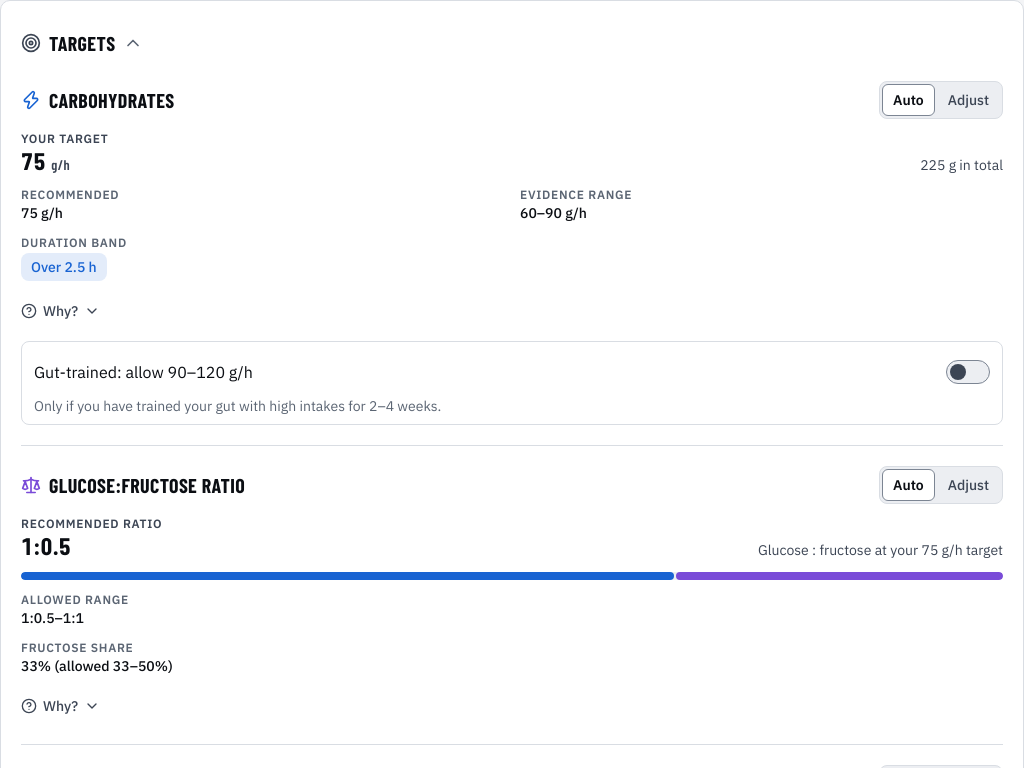
Test: TargetsSection: carbohydrate target › raises the target with the gut-trained opt-in and warns about gut training
Click the switch labelled "Gut-trained: allow 90–120 g/h" at (143, 372), box [34,350,990,394]
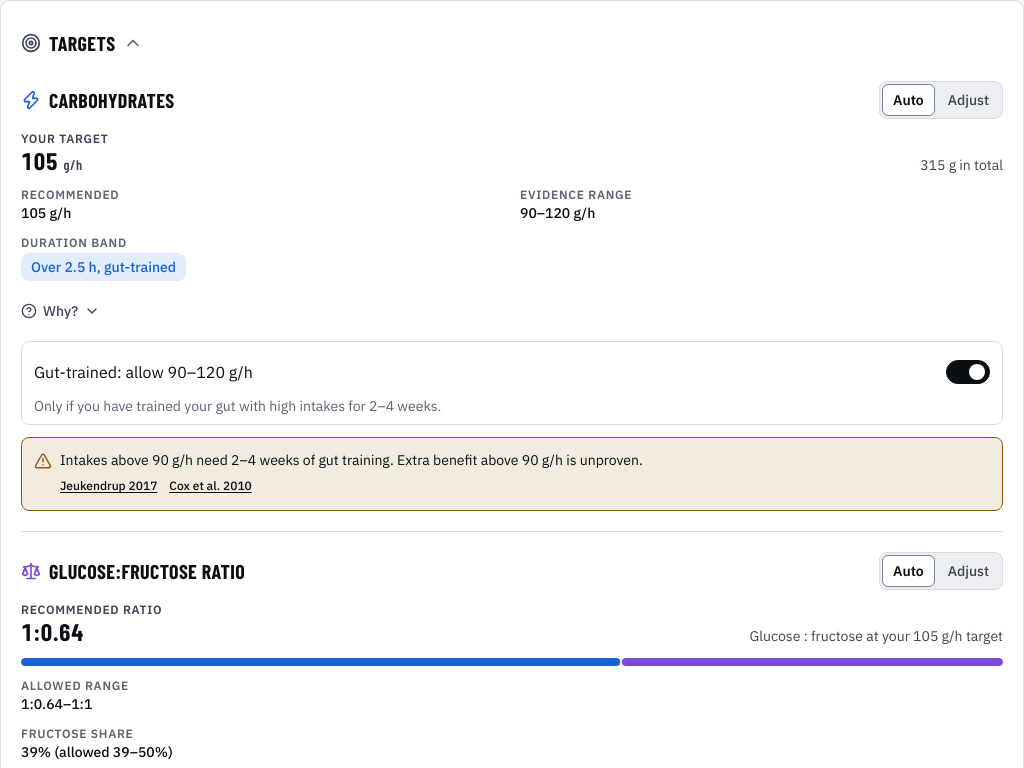
Expected: the element with test id "carbs-target" reads "105 g/h", [21,146,83,175]
Expected: the element with test id "carbs-band" reads "Over 2.5 h, gut-trained", [31,258,176,276]
Expected: the text "Intakes above 90 g/h need 2–4 weeks of gut training. Extra benefit above 90 g/h is unproven." is shown, [60,451,643,469]
